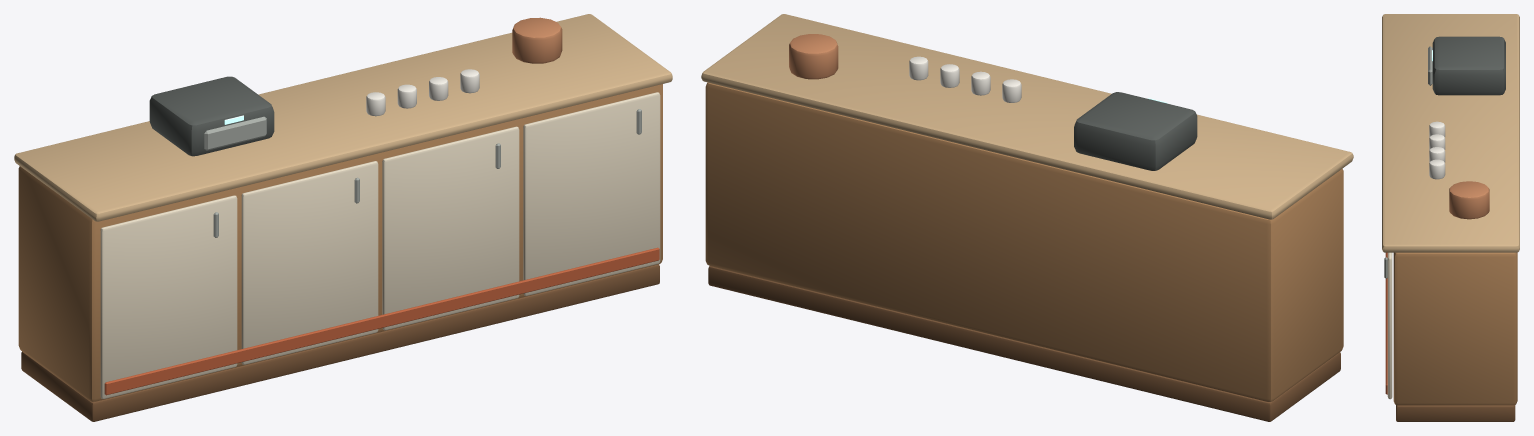
Rendered from coffee_bar.glb.
3 renders of one model, left to right at view 1: azimuth 30°, elevation 25°; view 2: azimuth 150°, elevation 25°; view 3: azimuth 270°, elevation 25°, orthographic. The views are drawn at different scales.
Parts seen in each view (by area): view 1: FURN-coffee_bar; view 2: FURN-coffee_bar; view 3: FURN-coffee_bar.
Boxes of the visible parts, left/top/right/bottom form: FURN-coffee_bar: left=14, top=14, right=672, bottom=421; FURN-coffee_bar: left=701, top=14, right=1353, bottom=421; FURN-coffee_bar: left=1382, top=14, right=1519, bottom=421.
Bounding box in the file's own units: 2.4 × 1 × 0.6.
